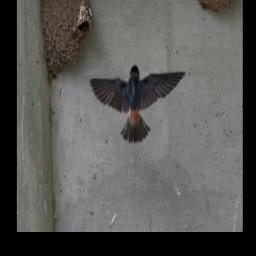Swallow: (89, 62, 189, 143)
